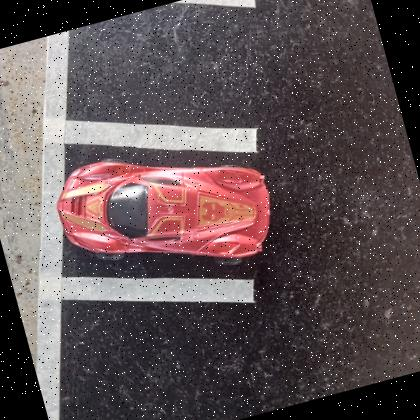Car: (57, 159, 271, 258)
